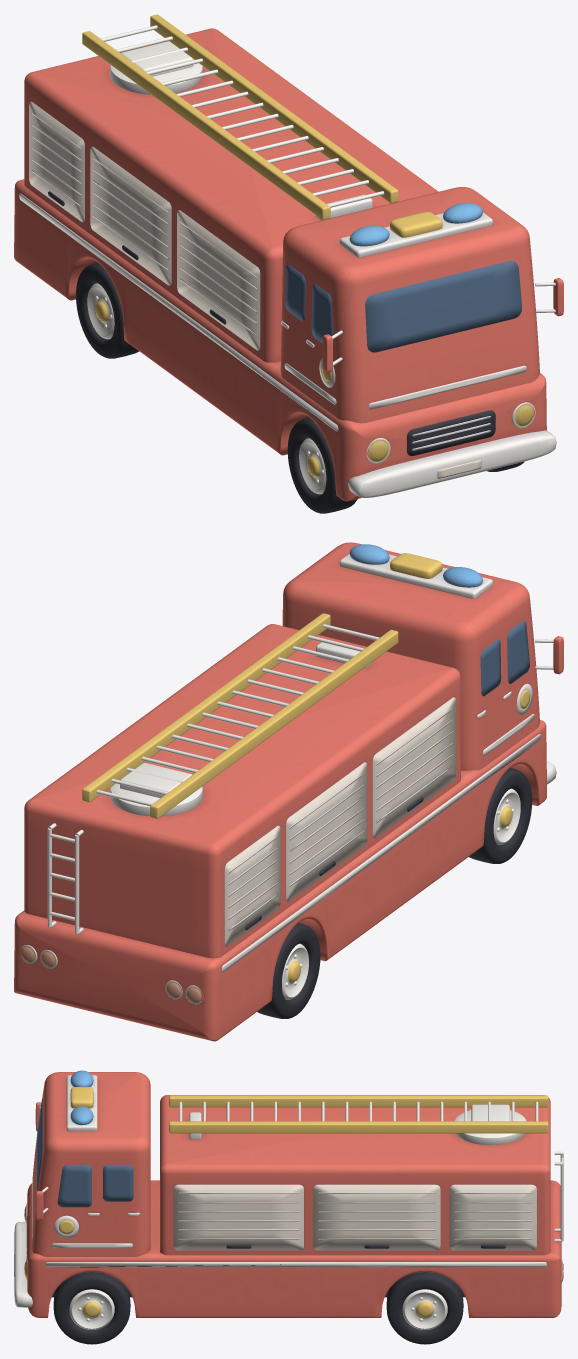
The model's file is fire-truck.glb.
3 renders of one model, top to bottom at view 1: azimuth 30°, elevation 25°; view 2: azimuth 150°, elevation 25°; view 3: azimuth 270°, elevation 25°, orthographic. The views are drawn at different scales.
Parts seen in each view (by area): view 1: fire-truck_body, fire-truck_ladder, fire-truck_windows, fire-truck_wheel_fr, fire-truck_wheel_rr; view 2: fire-truck_body, fire-truck_ladder, fire-truck_wheel_rr, fire-truck_wheel_fr, fire-truck_windows; view 3: fire-truck_body, fire-truck_ladder, fire-truck_wheel_fl, fire-truck_wheel_rl, fire-truck_windows.
Part boxes in pixels (x1,y1,x2,y2): fire-truck_body: (14,28,563,501); fire-truck_ladder: (82,14,398,219); fire-truck_windows: (285,260,521,352); fire-truck_wheel_fr: (287,417,357,513); fire-truck_wheel_rr: (76,262,139,358); fire-truck_body: (14,542,563,1041); fire-truck_ladder: (82,613,398,818); fire-truck_wheel_rr: (257,922,320,1018); fire-truck_wheel_fr: (469,768,532,863); fire-truck_windows: (480,620,529,696); fire-truck_body: (14,1070,563,1317); fire-truck_ladder: (169,1095,548,1133); fire-truck_wheel_fl: (53,1272,130,1344); fire-truck_wheel_rl: (386,1272,463,1344); fire-truck_windows: (36,1098,133,1207).
Bounding box in the file's own units: 2.8 × 3.1 × 7.13.
Materials: 16 (1 with a texture image).
